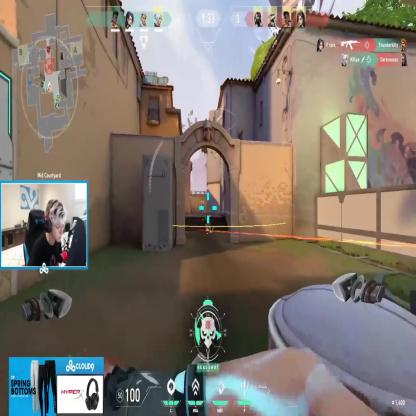enemy: (201, 198, 204, 213)
enemy_head: (202, 198, 203, 201)
